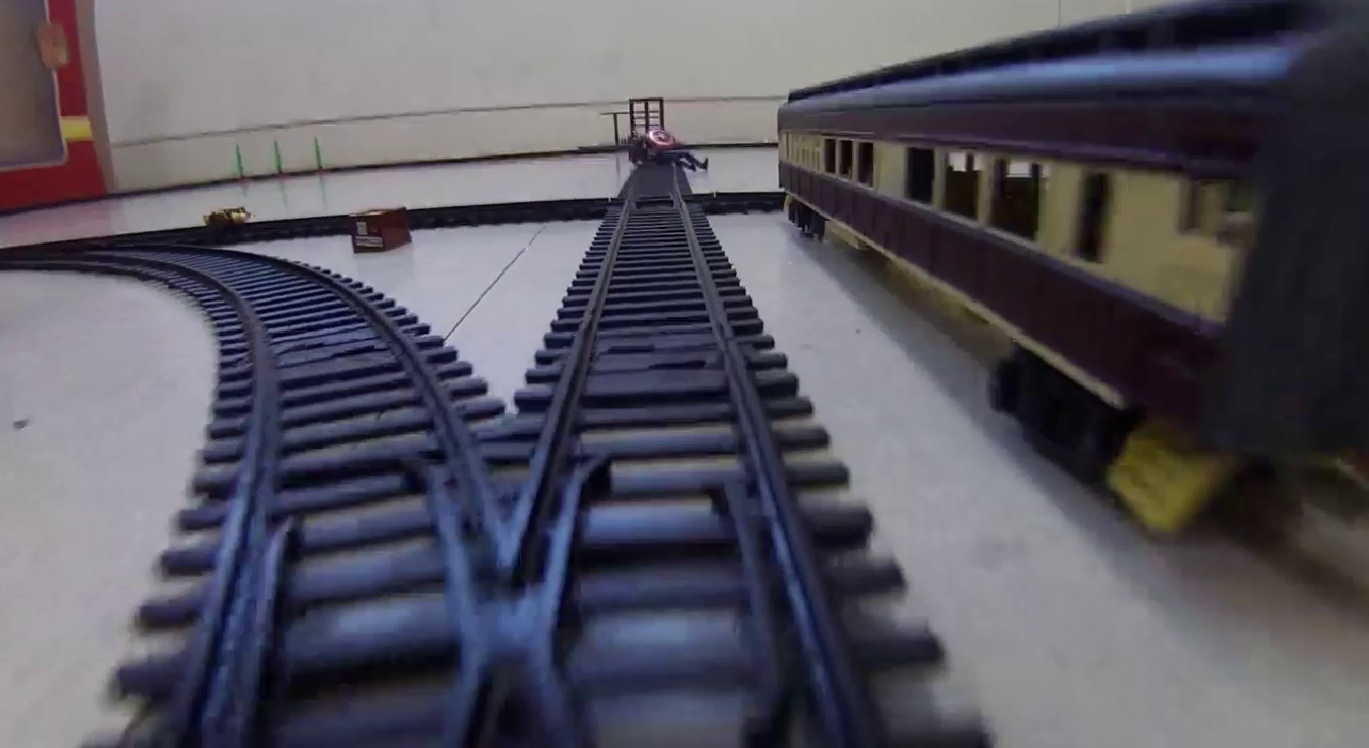box: (353, 209, 409, 247)
